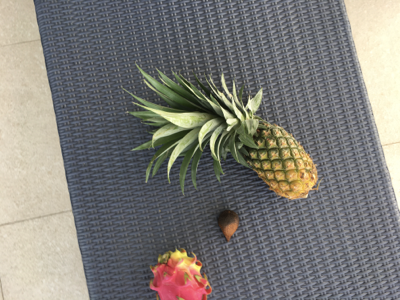dragon fruit: (150, 248, 213, 300)
pineapple: (129, 59, 318, 220)
snake fruit: (217, 209, 240, 241)
